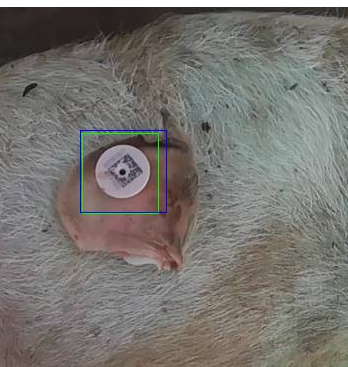text: (82, 133, 158, 213)
